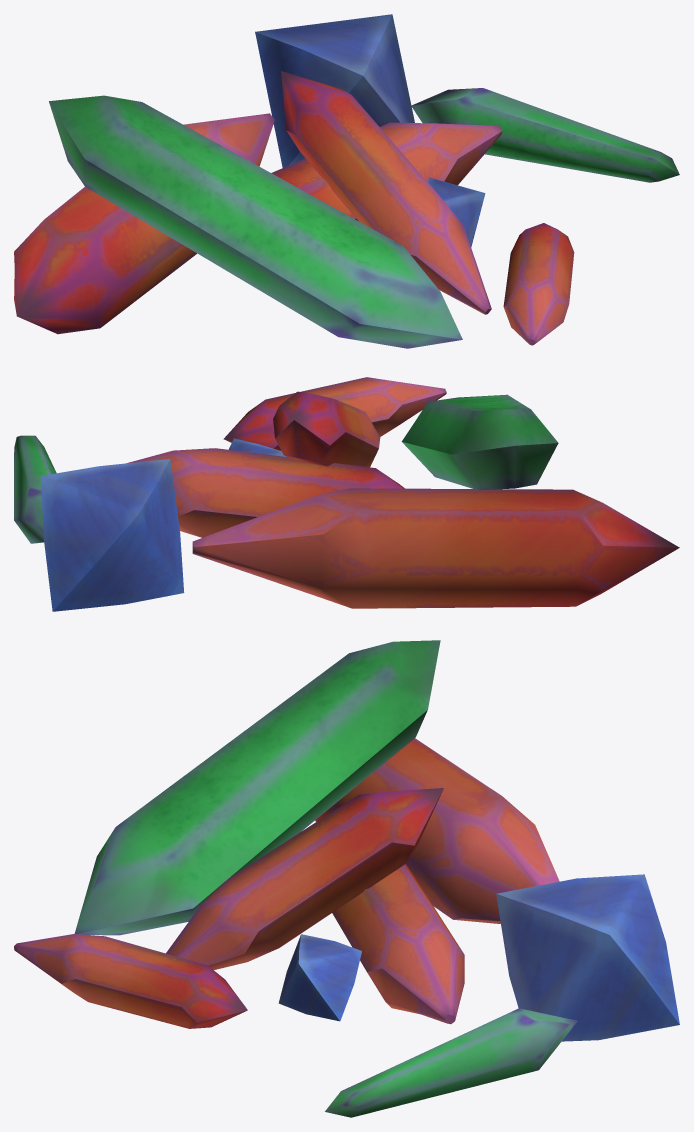
The model's file is SM_Potion_Props_Loot_Gem_02_B.fbx.
3 views of the same model, one above another, from view 1: azimuth 30°, elevation 25°; view 2: azimuth 150°, elevation 25°; view 3: azimuth 270°, elevation 25° (orthographic). The views are drawn at different scales.
Parts seen in each view (by area): view 1: SM_Potion_Props_Loot_Gem_02_B_LOD0; view 2: SM_Potion_Props_Loot_Gem_02_B_LOD0; view 3: SM_Potion_Props_Loot_Gem_02_B_LOD0.
Part boxes in pixels (x1,y1,x2,y2): SM_Potion_Props_Loot_Gem_02_B_LOD0: (14,14,679,348); SM_Potion_Props_Loot_Gem_02_B_LOD0: (14,377,679,611); SM_Potion_Props_Loot_Gem_02_B_LOD0: (14,640,679,1117).
Size of what is drawn, in the model's own units: 26.08 by 7.44 by 21.23.
